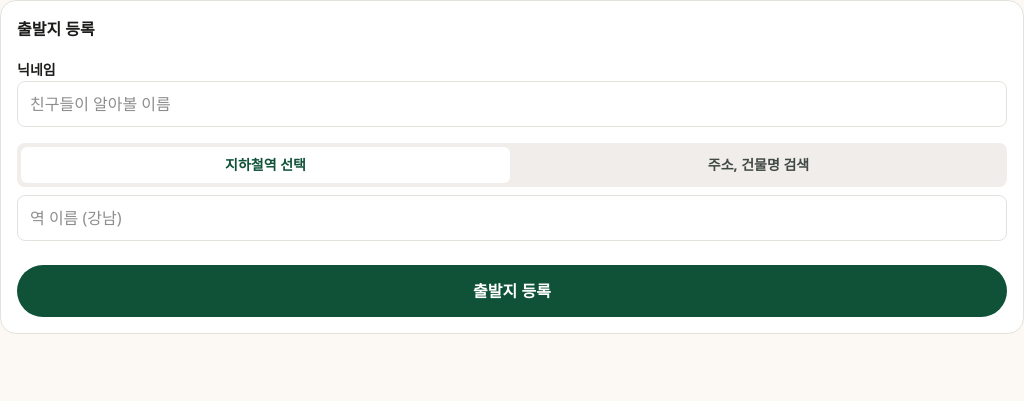
Scenario: 노선 목록이 없는 예전 서버 응답도 노선 하나로 보여준다
The width and height of the screenshot is (1024, 401).
Type "강남" into the field named "출발지 검색" at x=512, y=218, box [17,195,1007,241]
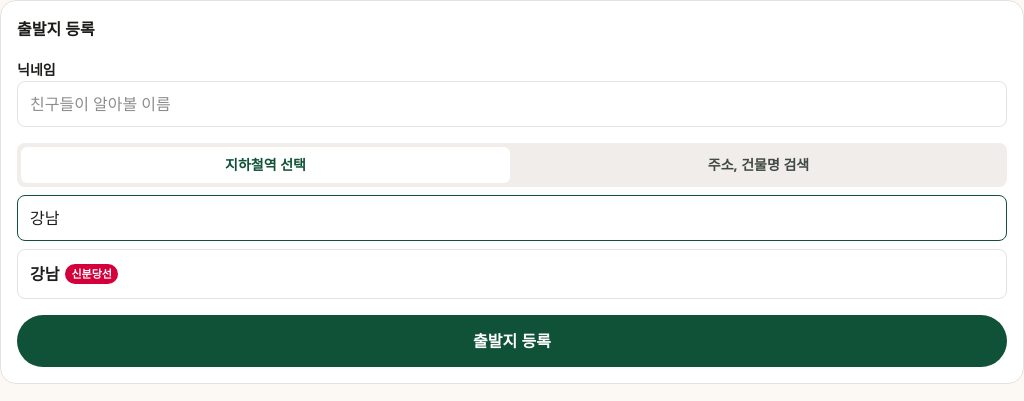
Click the button "강남 신분당선" at x=92, y=274, box [17,249,1007,299]
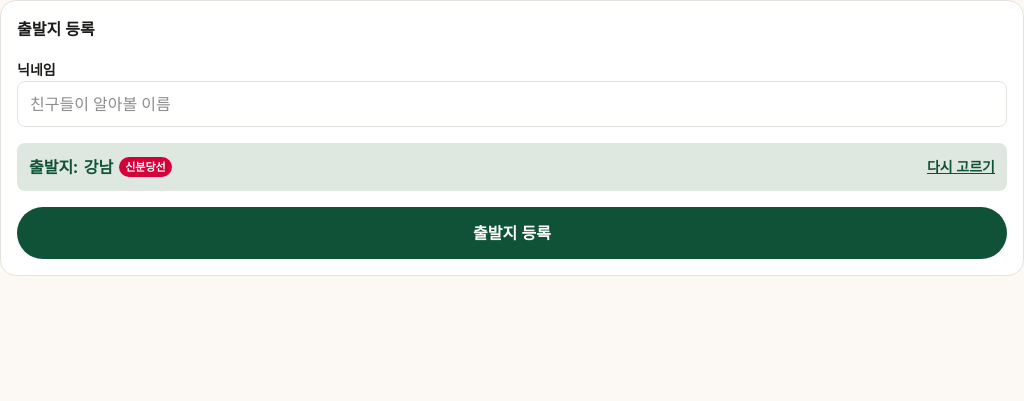
Expected: the text titled "신분당선" is shown, [119,157,172,177]
Expected: the text "출발지:" is shown, [29,155,78,179]
